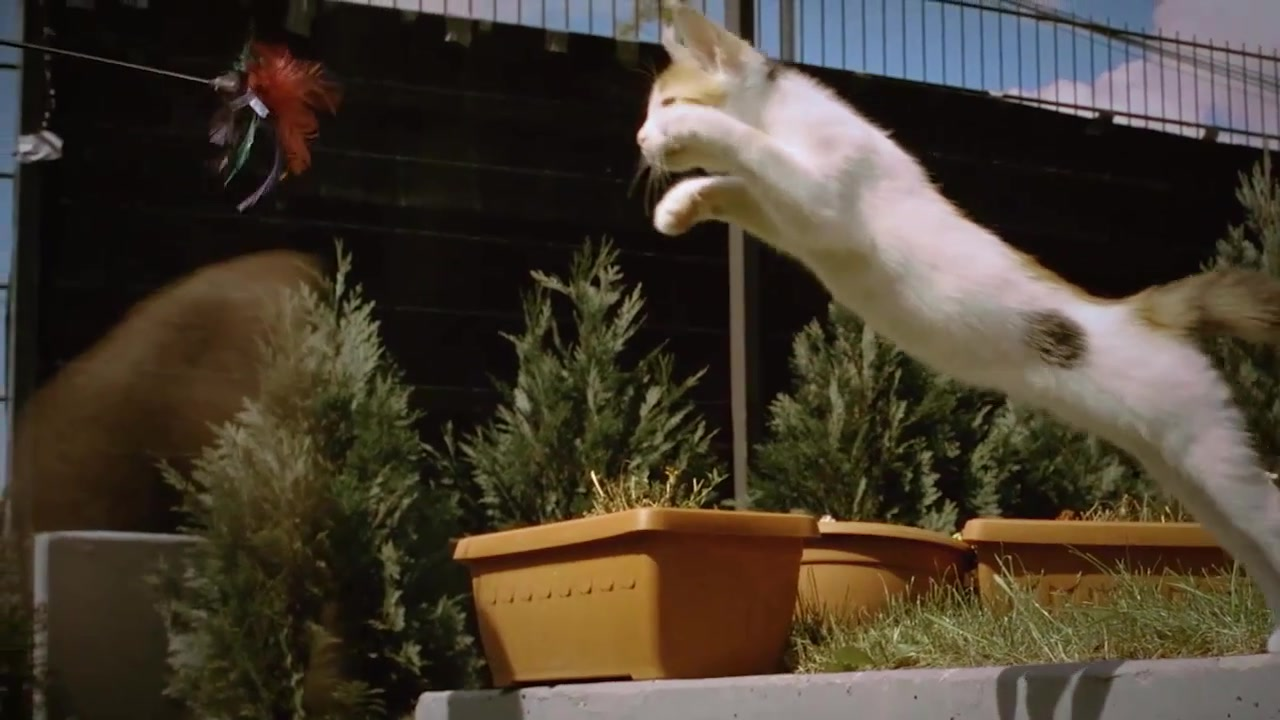cat: (633, 3, 1280, 651)
